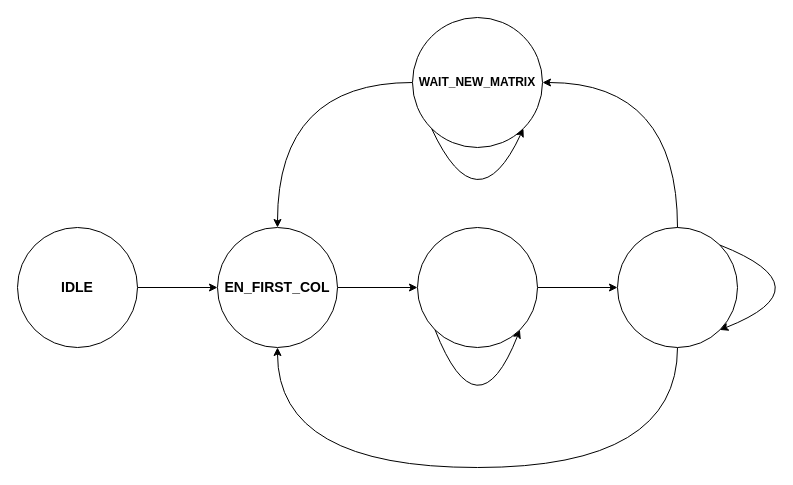
Image size: 793x485. Some labels were removed from this diagram. Here are the shapes that lost their labels. From the top down, the centre of each, then its label:
At (477,287): "EN_COL".
At (677,287): "EN_NEW_ROW".
